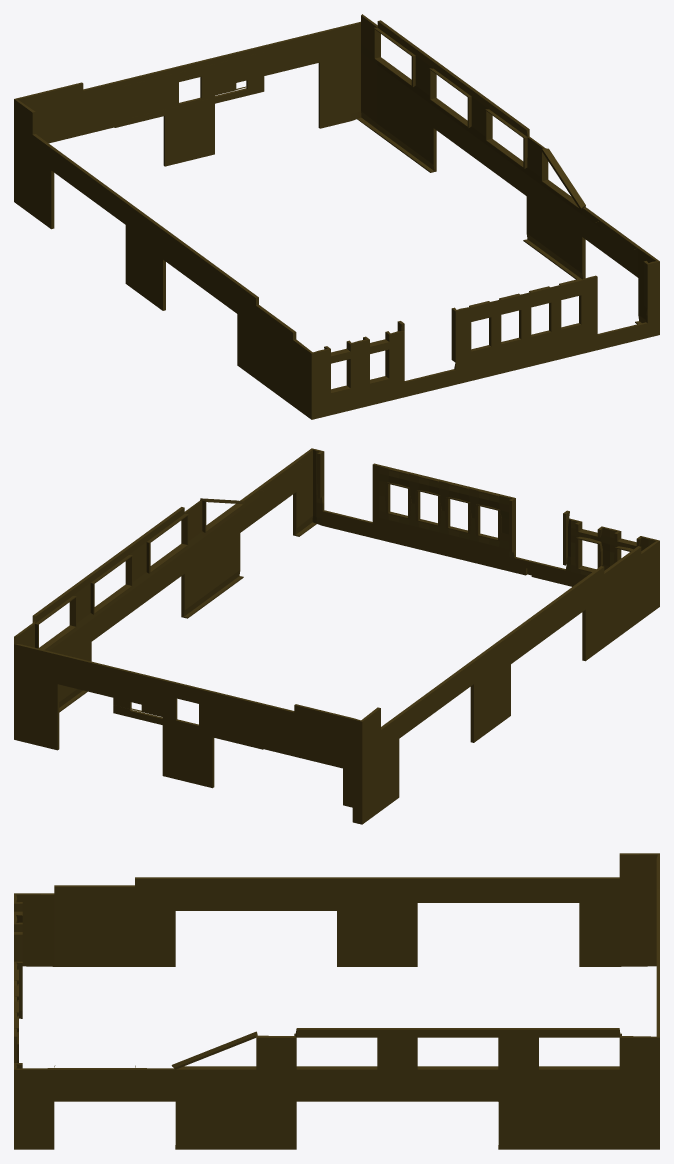
File: Data Center Progress 1 of 4.fbx
3 renders of one model, top to bottom at view 1: azimuth 30°, elevation 25°; view 2: azimuth 150°, elevation 25°; view 3: azimuth 270°, elevation 25°, orthographic. The views are drawn at different scales.
Parts seen in each view (by area): view 1: Data Center Progress 3.002; view 2: Data Center Progress 3.002; view 3: Data Center Progress 3.002.
Part boxes in pixels (x1,y1,x2,y2): Data Center Progress 3.002: (14, 14, 659, 419); Data Center Progress 3.002: (14, 448, 659, 824); Data Center Progress 3.002: (14, 853, 659, 1149).
Bounding box in the file's own units: 1819 × 551 × 2693.
